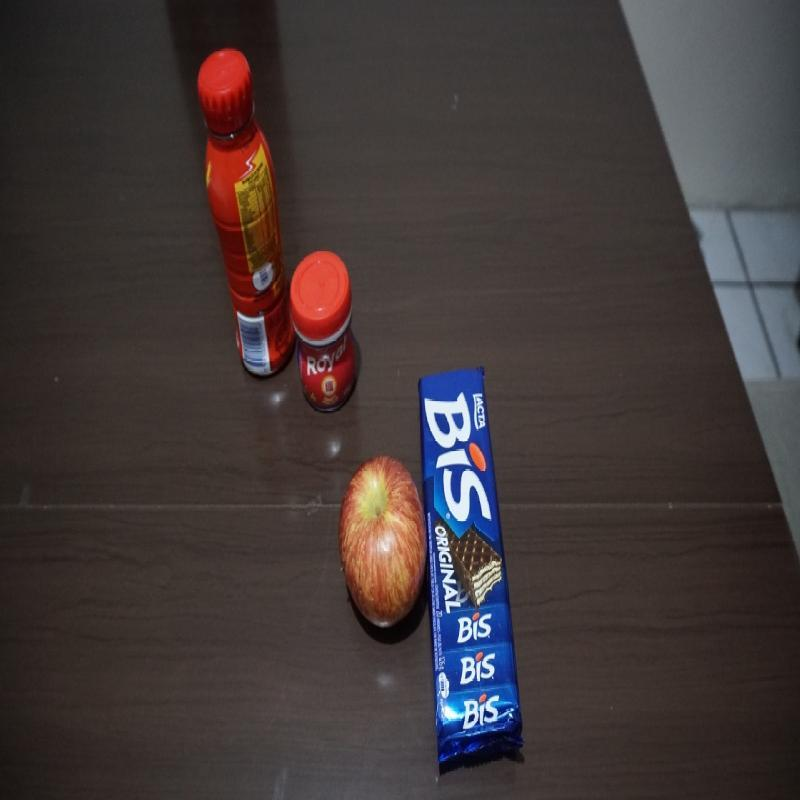Apple: (334, 453, 424, 626)
Chocolate Milk: (197, 49, 291, 384)
Yeast: (291, 245, 358, 413)
